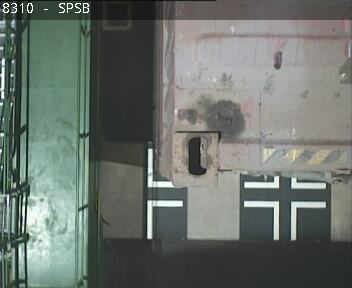groundmarker_1: (244, 201, 326, 240), (147, 150, 182, 240)
